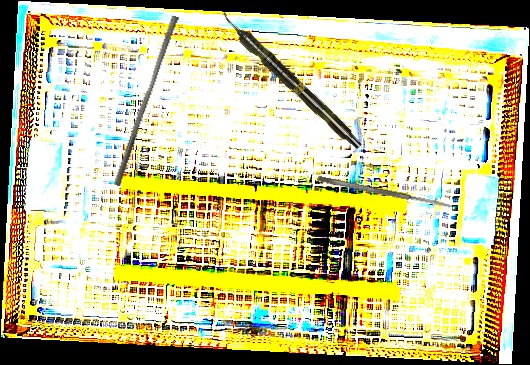Handpiece: (216, 8, 366, 153)
Pusher: (113, 13, 180, 189)
Spatula Surgical: (316, 174, 454, 211)
